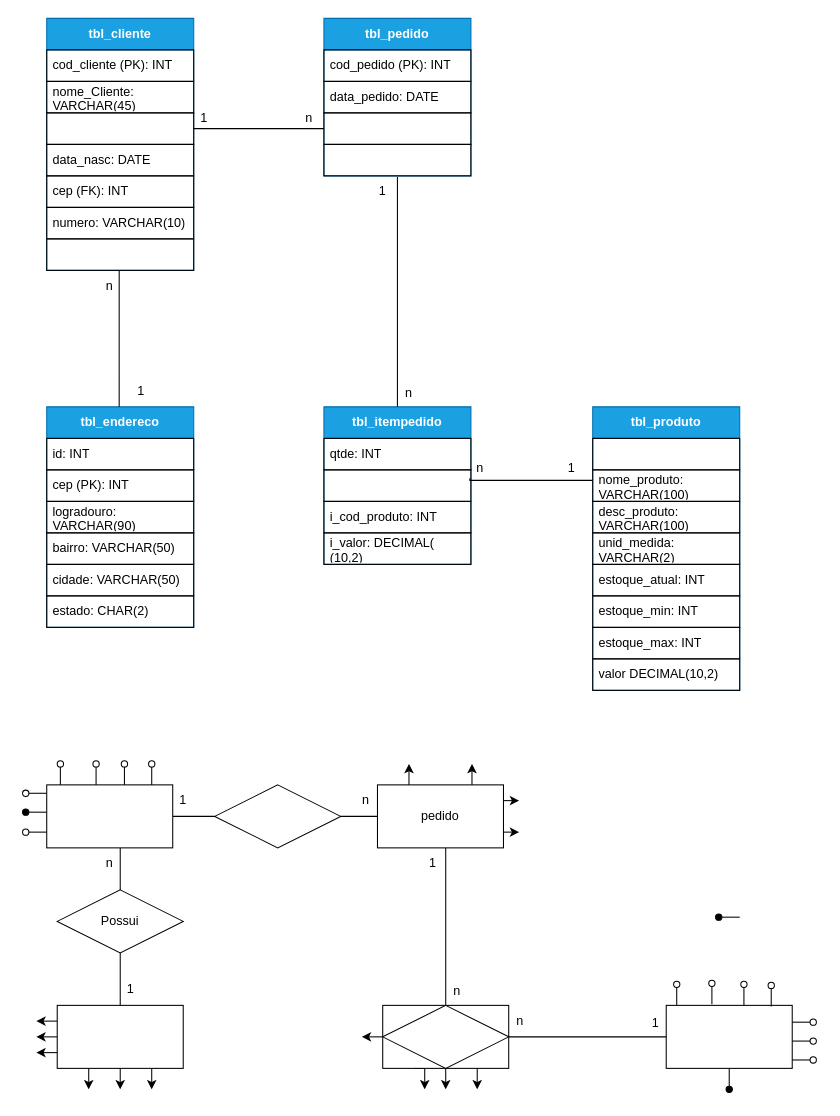
Some shapes in this 840 by 1116 pixel diagram are drawn without their labels. The centre of each missing label's shape, as x and y in pixels:
cliente: pixel 109 816
cod_cliente (FK): INT: pixel 397 159
cod_produto (PK): INT: pixel 666 453
complemento: VARCHAR(20): pixel 120 254
Contém: pixel 445 1036
cpf: VARCHAR(11): pixel 120 128
data_entrega: DATE: pixel 397 128
endereco: pixel 119 1036
Faz: pixel 277 816
i_cod_pedido: INT: pixel 397 485
produto: pixel 728 1036
